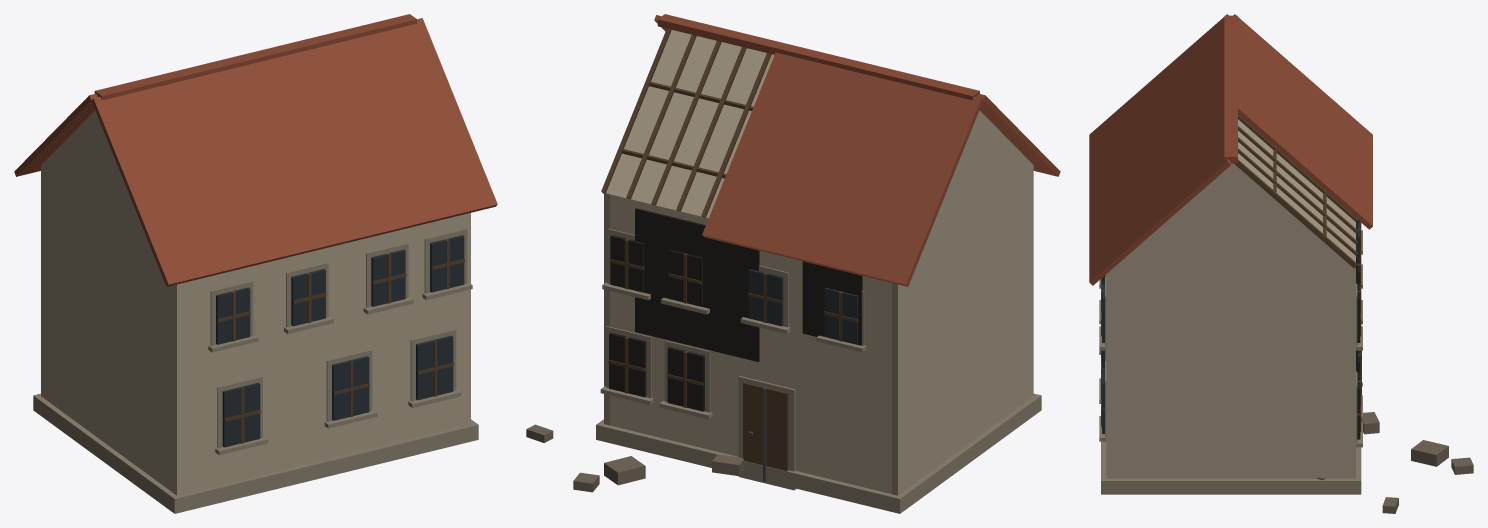
File: house_normandy_s_damaged.glb
The picture shows the model from 3 angles, left to right: view 1: azimuth 30°, elevation 25°; view 2: azimuth 150°, elevation 25°; view 3: azimuth 270°, elevation 25°; orthographic projection. The views are drawn at different scales.
Parts seen in each view (by area): view 1: house_normandy_s_damaged; view 2: house_normandy_s_damaged; view 3: house_normandy_s_damaged.
Boxes of the visible parts, bbox=[...] form: house_normandy_s_damaged: bbox=[14, 14, 497, 513]; house_normandy_s_damaged: bbox=[526, 14, 1060, 513]; house_normandy_s_damaged: bbox=[1089, 14, 1473, 513].
Size of the model in its own units: 8.76 by 8.51 by 8.63.
